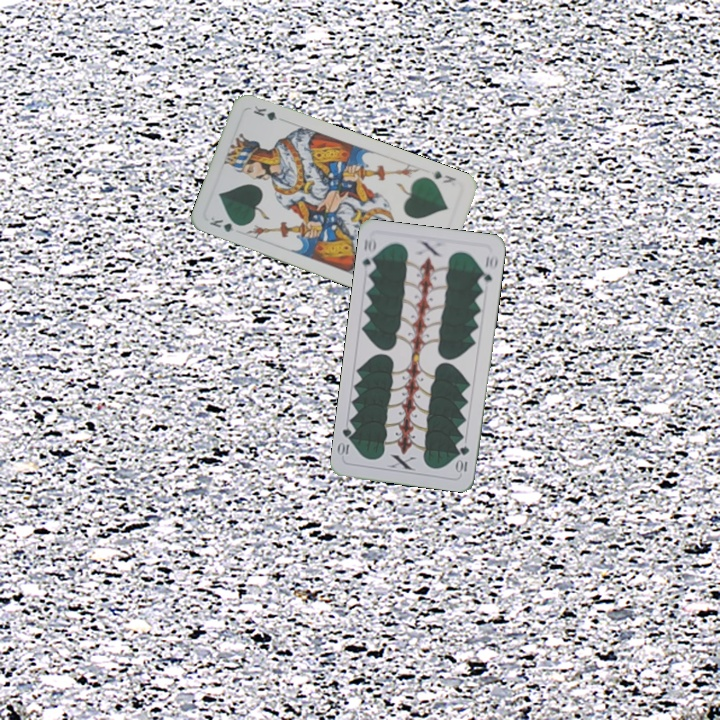G10: (358, 234, 379, 275), (453, 442, 472, 475)
GK: (206, 213, 245, 235), (430, 167, 458, 186)
